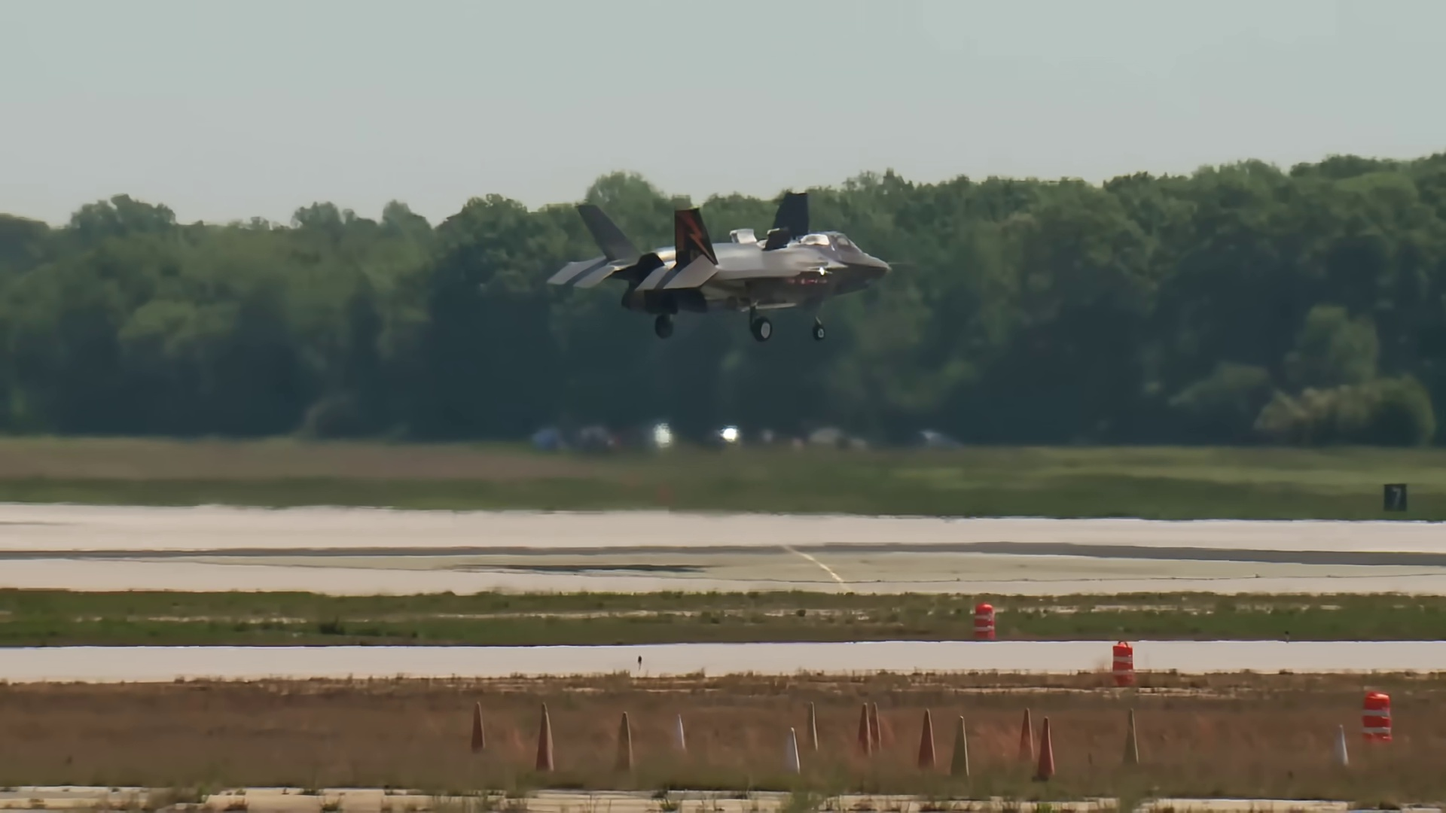F35: (542, 190, 897, 344)
